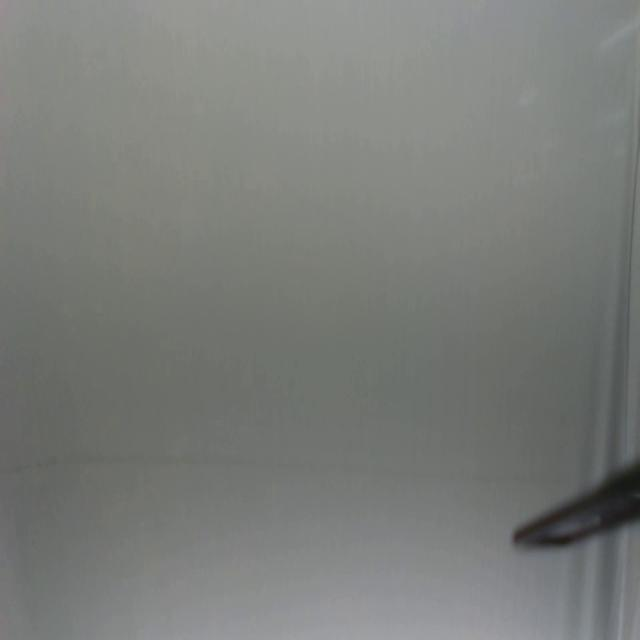color bleeding: (4, 448, 582, 488)
